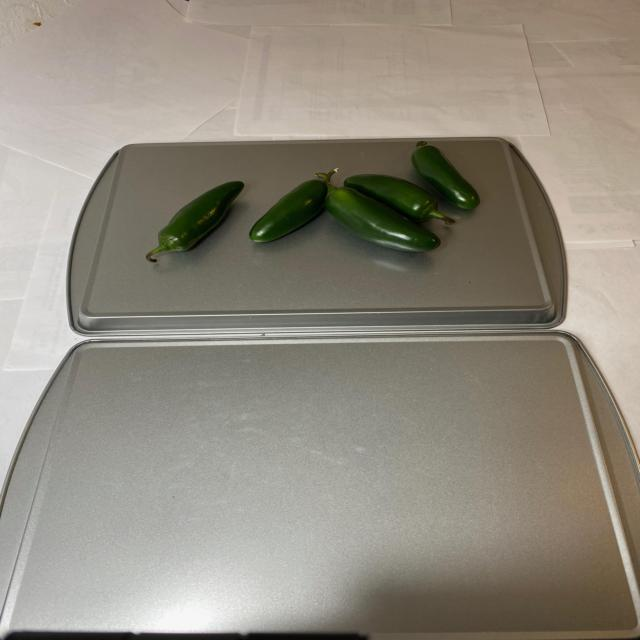chilli: (144, 137, 486, 278)
